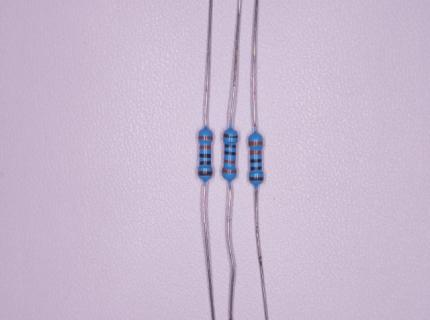Black band: (224, 151, 236, 156), (200, 153, 211, 158), (199, 161, 211, 165), (250, 159, 262, 163), (250, 166, 262, 170), (225, 144, 236, 148)
Brown band: (249, 176, 264, 181), (223, 133, 238, 138), (198, 171, 212, 176)
Orange band: (222, 168, 237, 173), (248, 141, 263, 146), (198, 136, 213, 140), (250, 150, 262, 155), (224, 159, 235, 164), (199, 145, 211, 149)
